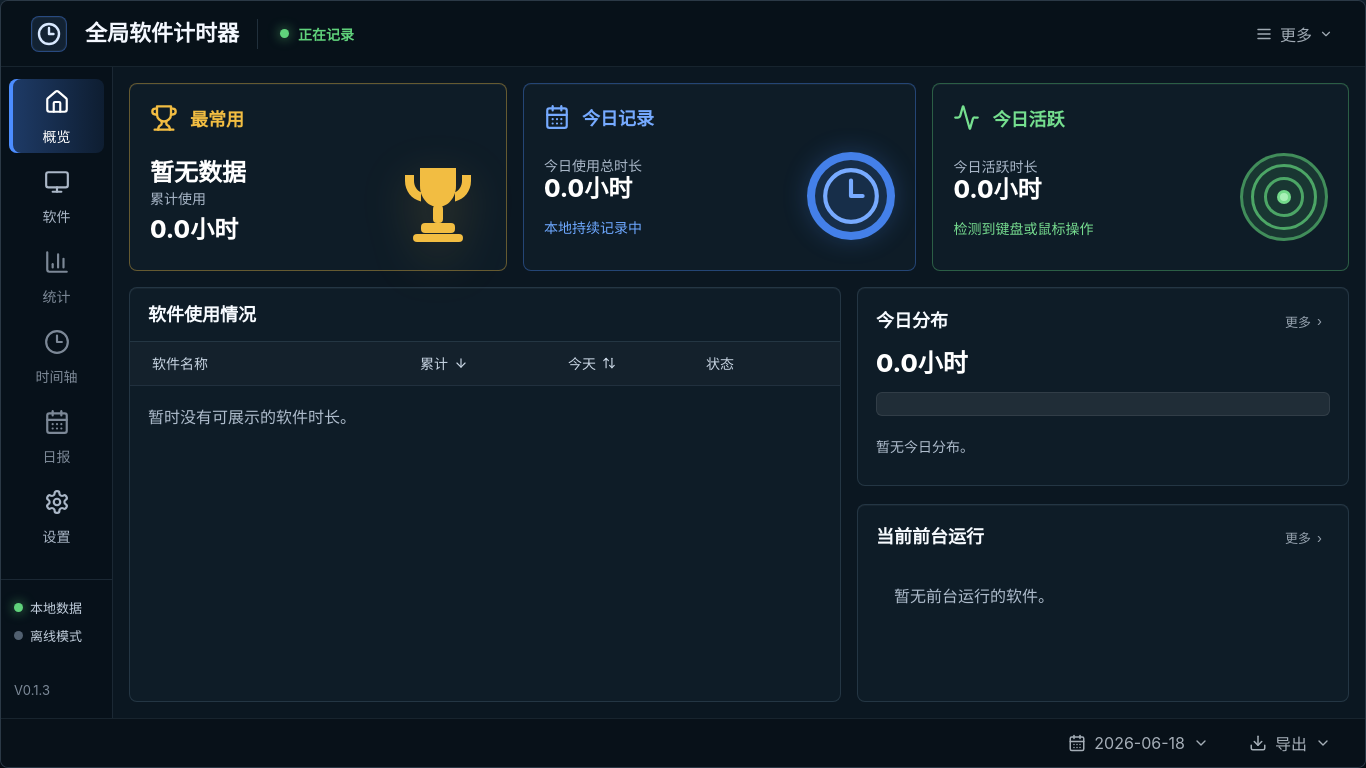
Test case: App › prevents concurrent duration display saves
Click the button "设置" at (56, 516), box [9, 479, 104, 553]
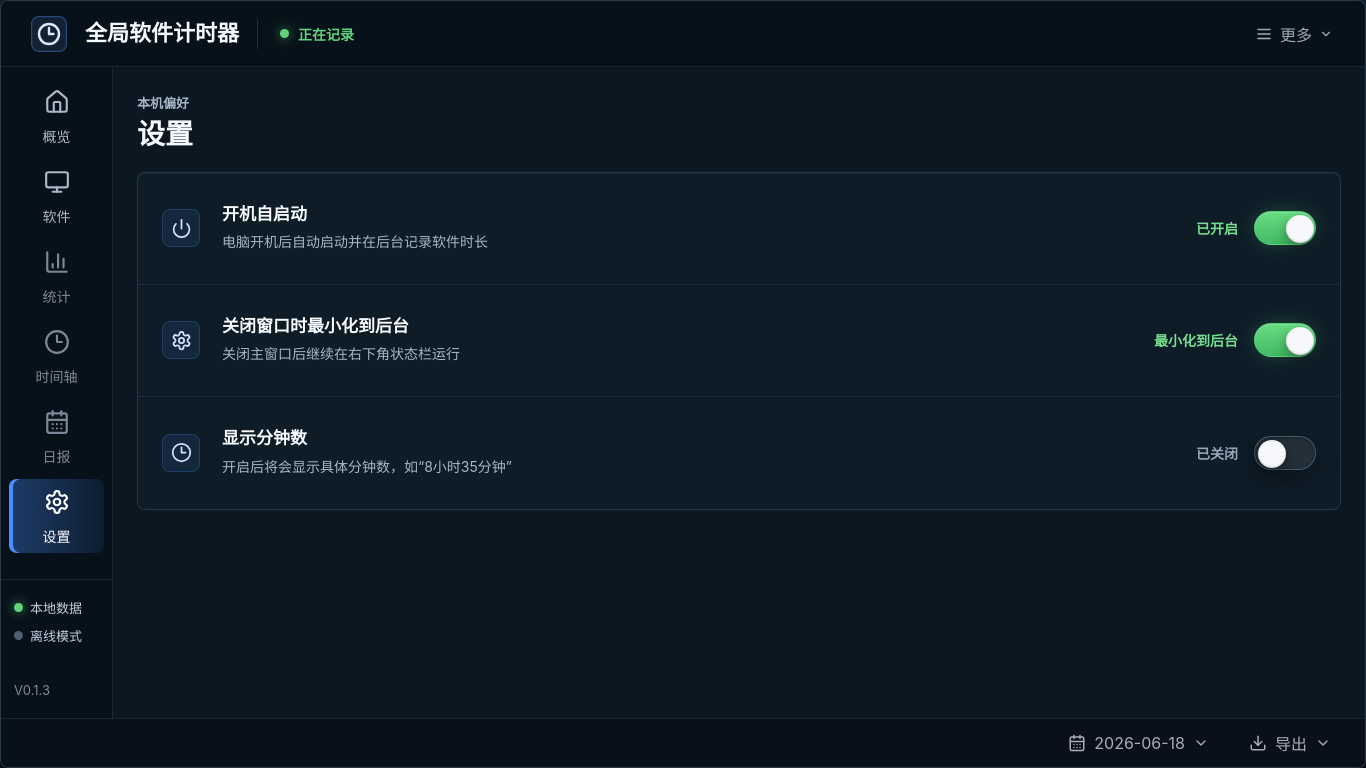
Now the switch named "显示分钟数" is enabled
Click the switch named "显示分钟数" at (1285, 453), box [1254, 436, 1316, 470]
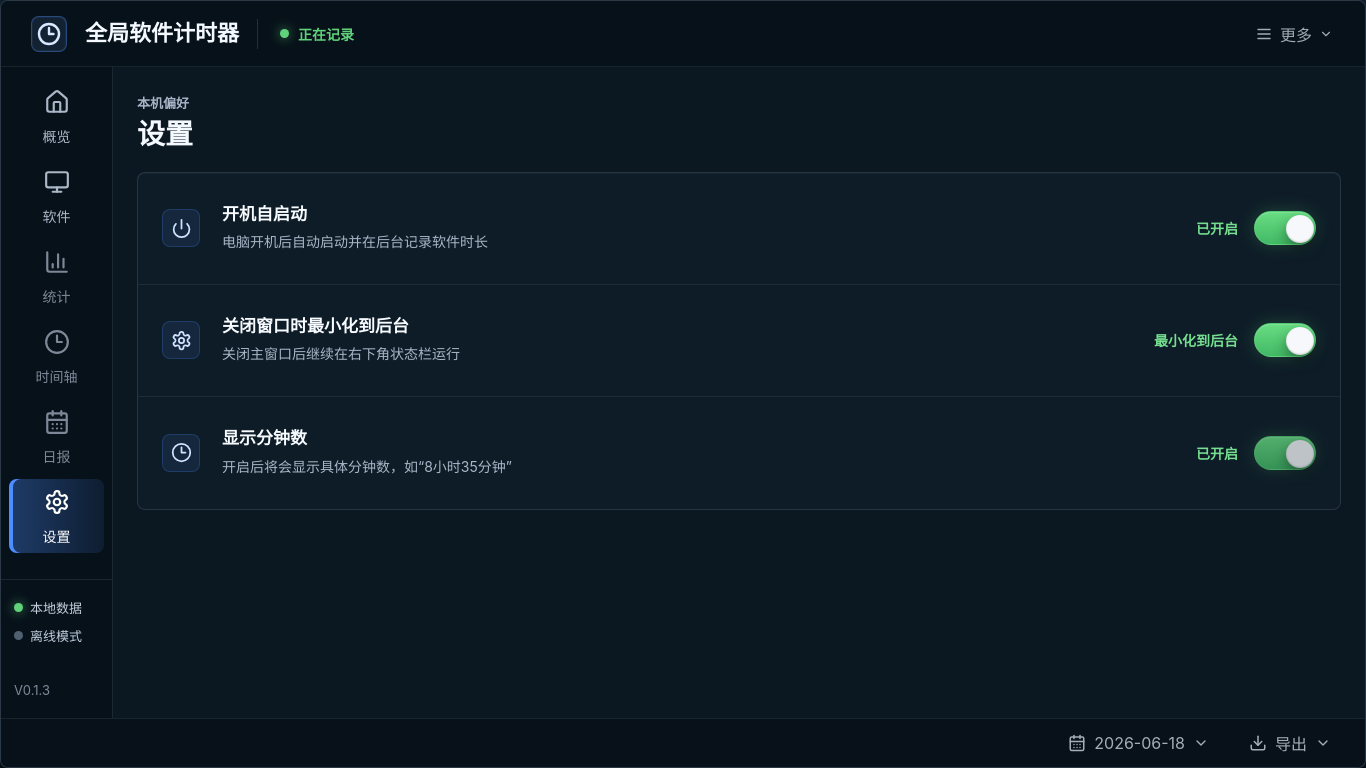
Now the switch named "显示分钟数" is disabled
Click the switch named "显示分钟数" at (1285, 453), box [1254, 436, 1316, 470]
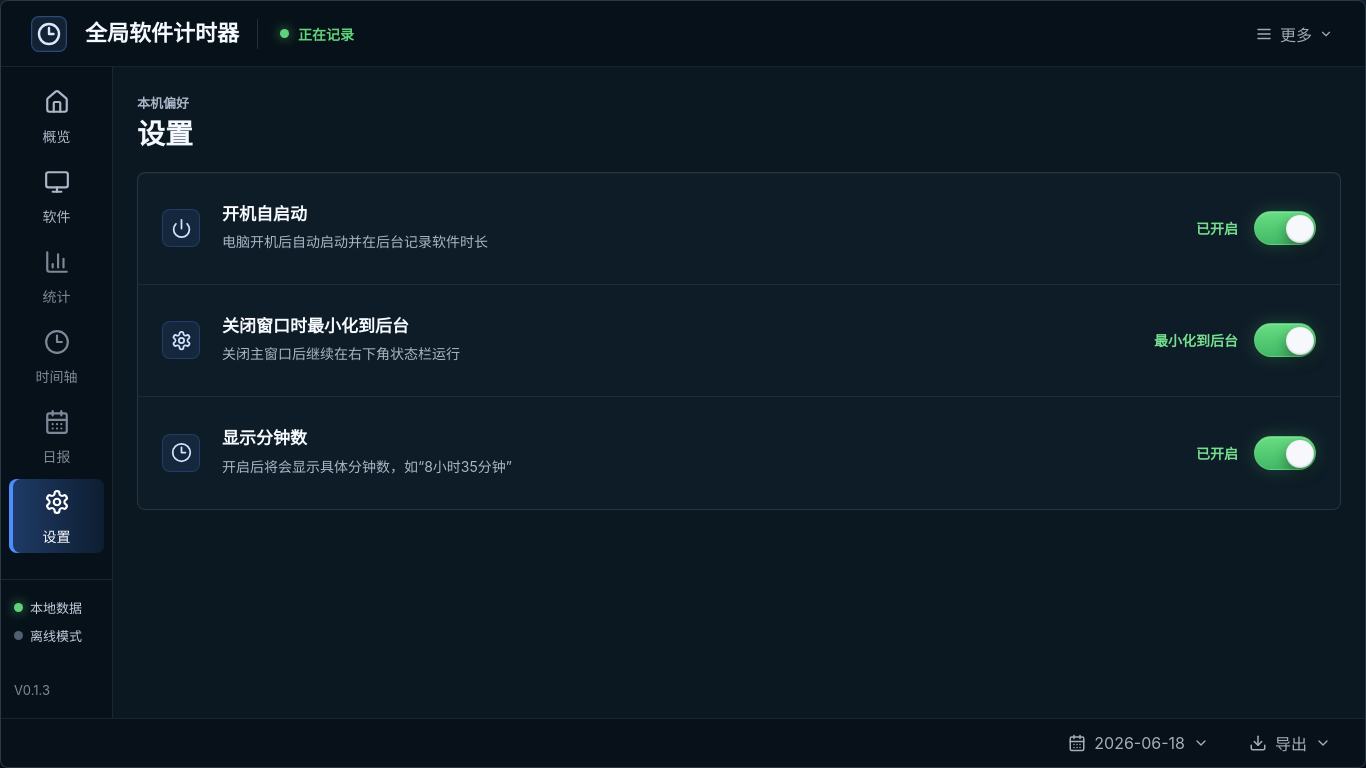
Now the switch named "显示分钟数" is enabled, box [1254, 436, 1316, 470]
